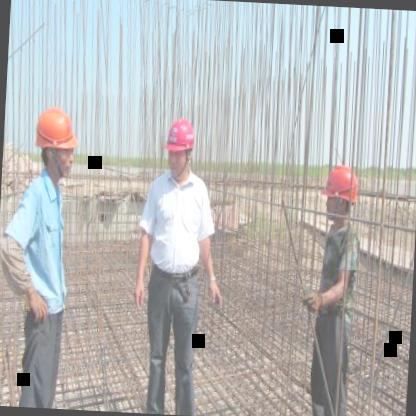helmet: (27, 97, 86, 183), (320, 155, 363, 225), (160, 108, 198, 180)
